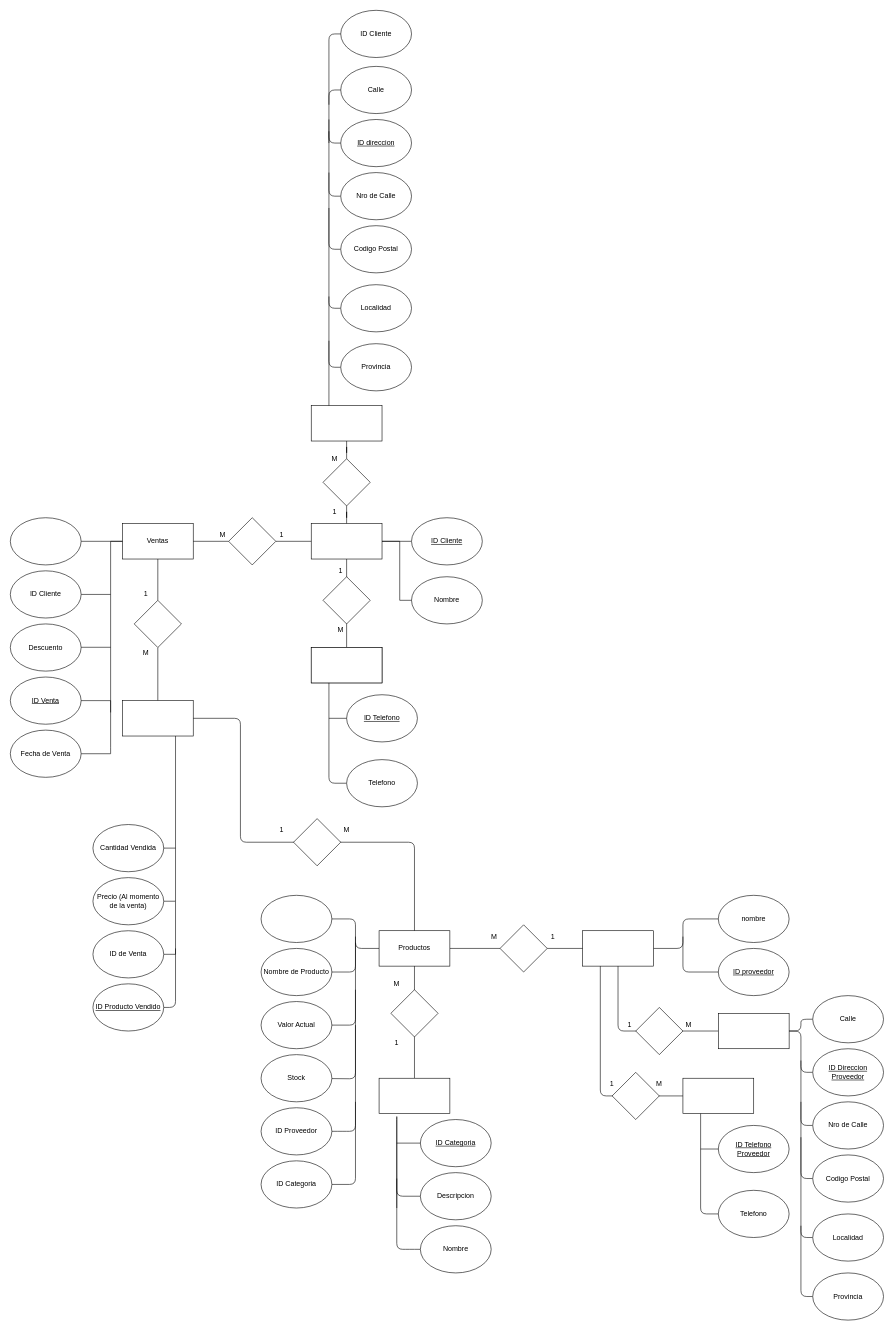
Some shapes in this 894 by 1330 pixel diagram are drawn without their labels. The centre of each missing label's shape, as x and y in pixels:
Categorias: the point at 414,1096
Clientes: the point at 346,541
Contacto: the point at 346,665
Contacto Proveedores: the point at 718,1096
Direccion: the point at 346,423
Direccion Proveedores: the point at 753,1031
ID Producto: the point at 296,919
Monto Final: the point at 45,541
Producto vendido: the point at 157,718
Proveedores: the point at 617,948
